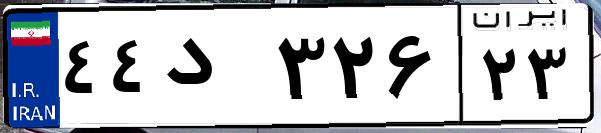2: (330, 28, 385, 110), (475, 38, 525, 113)
3: (270, 28, 330, 110), (525, 38, 570, 115)
4: (57, 26, 110, 100), (110, 28, 158, 98)
6: (385, 28, 445, 110)
د: (158, 20, 270, 120)
